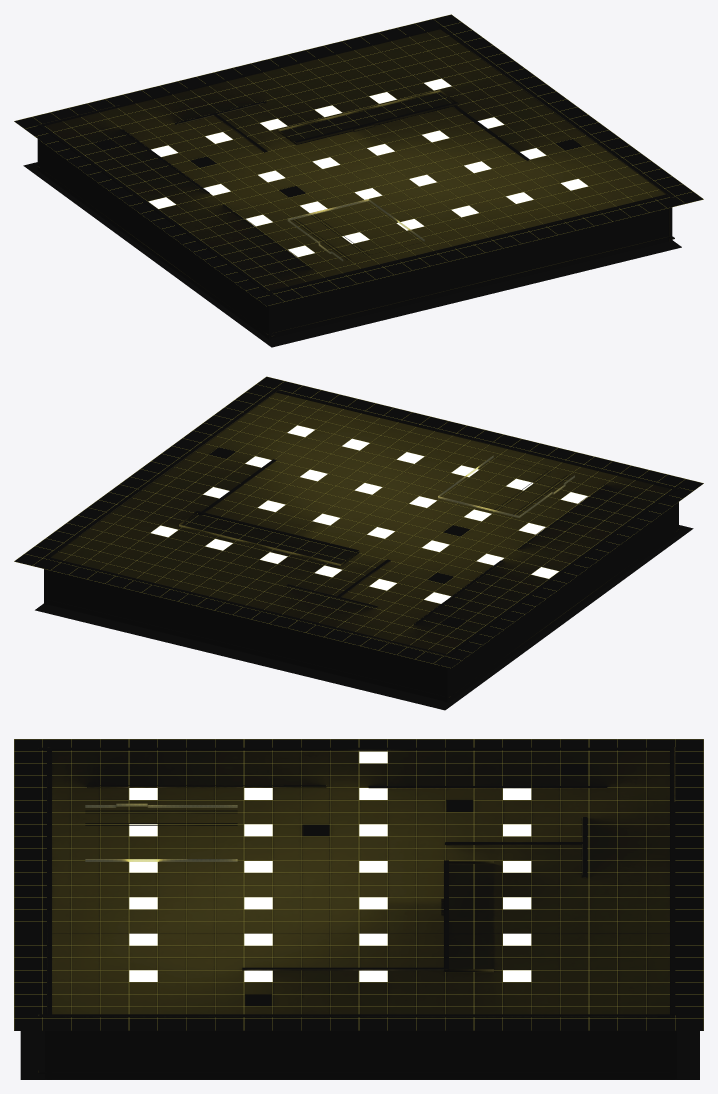
The model's file is backrooms.glb.
The picture shows the model from 3 angles, top to bottom: view 1: azimuth 30°, elevation 25°; view 2: azimuth 150°, elevation 25°; view 3: azimuth 270°, elevation 25°; orthographic projection. The views are drawn at different scales.
Visible parts, largest first — view 1: Ceiling_6, BackWall_Double_BR.028_3, Air_Vent.005_5, Carpet_v1.001_4, Piece1_2; view 2: Ceiling_6, BackWall_Double_BR.028_3, Air_Vent.005_5, Carpet_v1.001_4, Piece1_2; view 3: Ceiling_6, BackWall_Double_BR.028_3, Air_Vent.005_5, Carpet_v1.001_4, Piece1_2.
Boxes of the visible parts, x1,y1,x2,y2 form: Ceiling_6: (14,14,703,305); BackWall_Double_BR.028_3: (37,26,674,339); Air_Vent.005_5: (14,14,703,306); Carpet_v1.001_4: (23,162,681,347); Piece1_2: (287,199,424,261); Ceiling_6: (14,377,703,668); BackWall_Double_BR.028_3: (44,387,681,702); Air_Vent.005_5: (14,376,703,668); Carpet_v1.001_4: (35,525,693,710); Piece1_2: (438,455,574,517); Ceiling_6: (14,739,703,1030); BackWall_Double_BR.028_3: (38,747,676,1079); Air_Vent.005_5: (14,739,703,1030); Carpet_v1.001_4: (20,1031,699,1079); Piece1_2: (85,803,237,861).
Size of the model in its own units: 54.71 by 5.75 by 54.71.
Materials: 11 (9 with a texture image).
